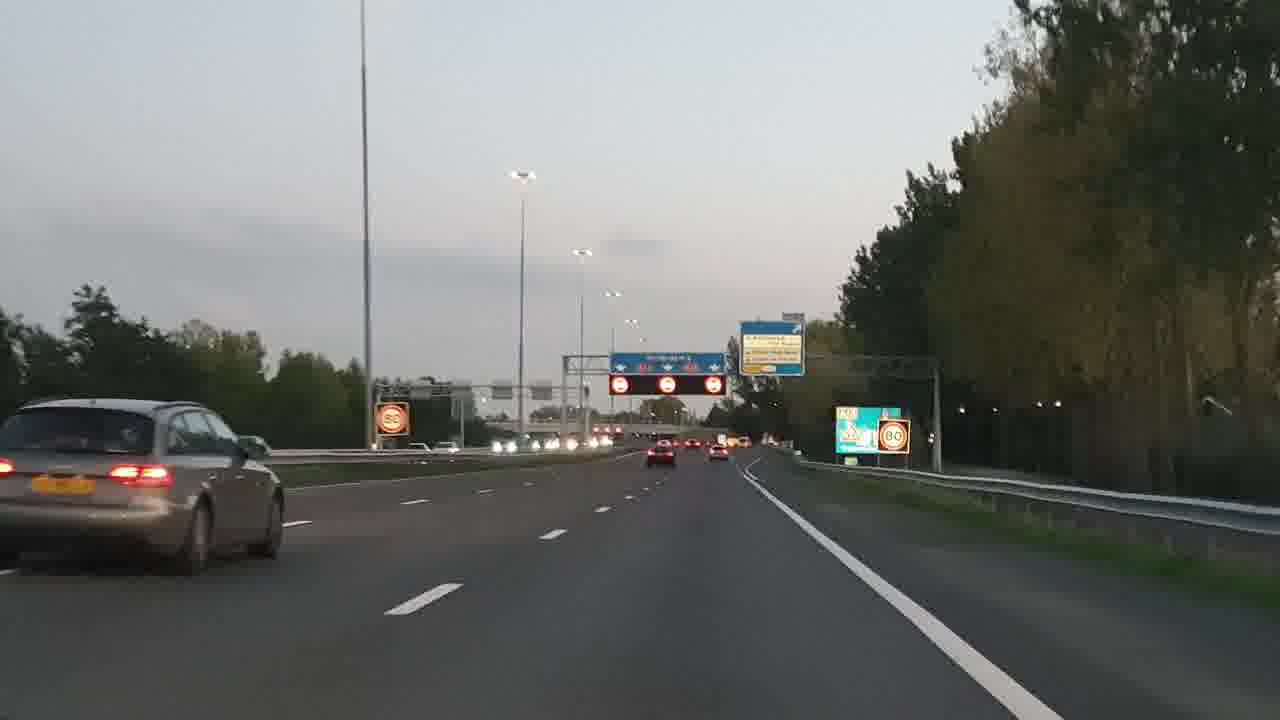car: (1, 384, 284, 575)
